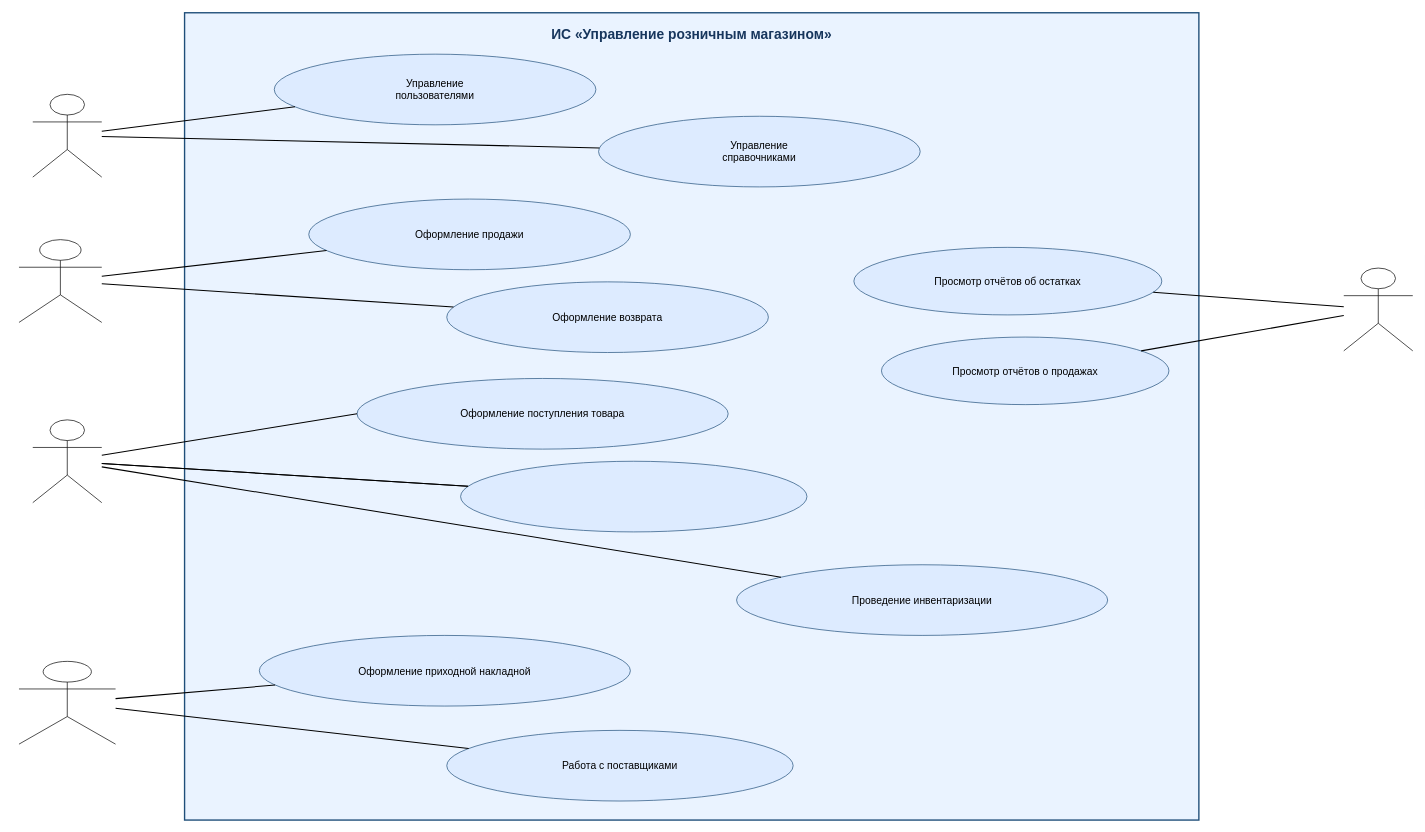
Image size: 1425x832. Some labels were removed from this diagram. Each missing label, with the centre of its shape:
"Администратор" belongs at pixel 67 135.
"Кладовщик" belongs at pixel 67 461.
"Контроль остатков товаров" belongs at pixel 633 496.
"Менеджер по закупкам" belongs at pixel 67 702.
"Продавец / кассир" belongs at pixel 60 280.
"Руководитель" belongs at pixel 1378 309.
